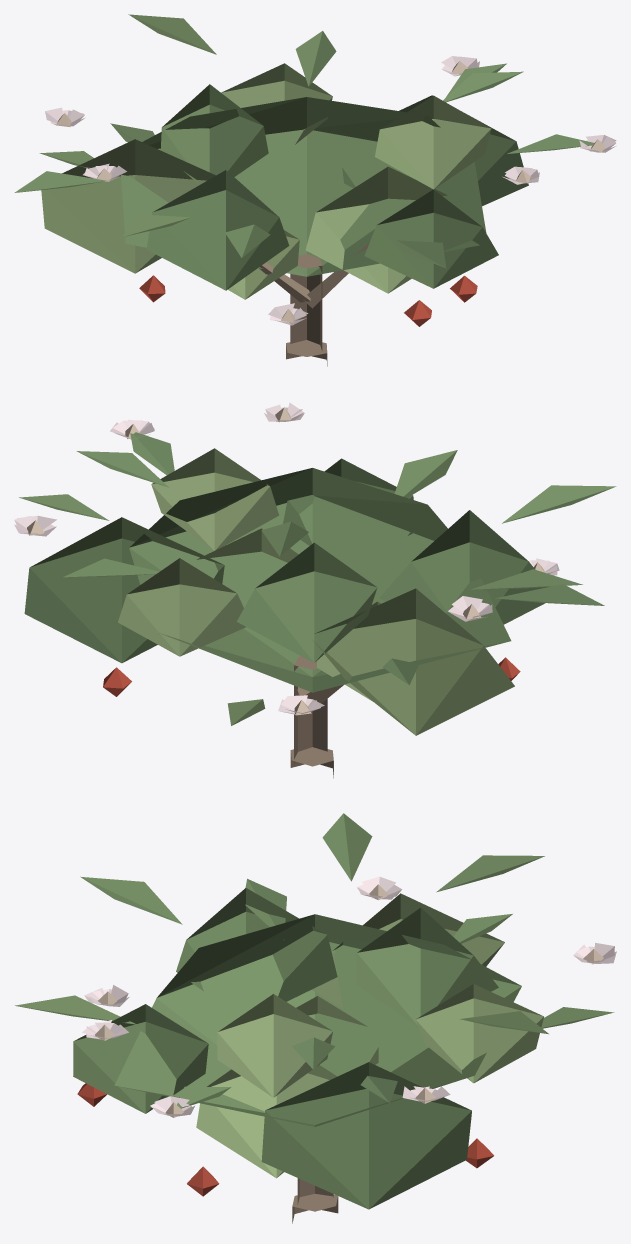
File: shu.cha__summer.glb
3 views of the same model, one above another, from view 1: azimuth 30°, elevation 25°; view 2: azimuth 150°, elevation 25°; view 3: azimuth 270°, elevation 25° (orthographic). The views are drawn at different scales.
Visible parts, largest first — view 1: shu.cha__summer; view 2: shu.cha__summer; view 3: shu.cha__summer.
Part boxes in pixels (x1,y1,x2,y2): shu.cha__summer: [14, 14, 616, 366]; shu.cha__summer: [14, 402, 616, 778]; shu.cha__summer: [15, 813, 616, 1223].
Size of the model in its own units: 4.81 by 2.57 by 4.33.
